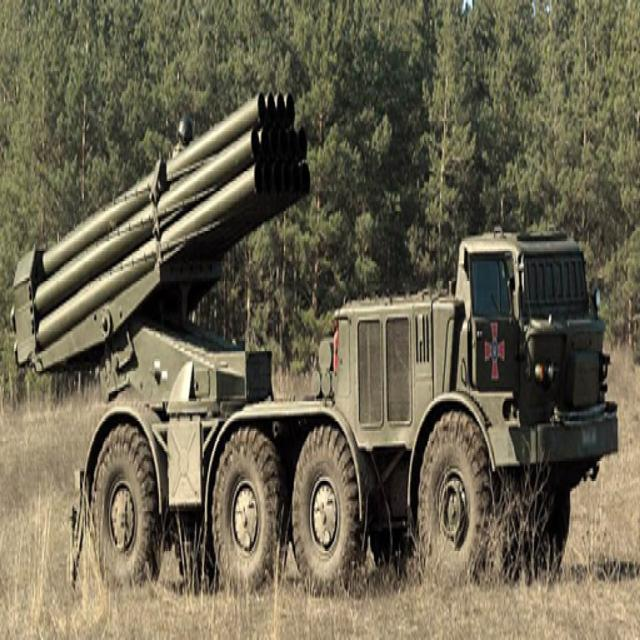MLRS: (9, 90, 619, 578)
